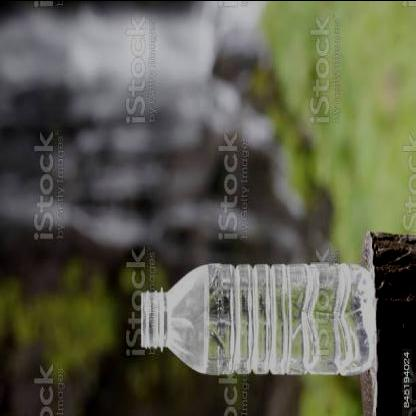bottle: (137, 254, 376, 386)
